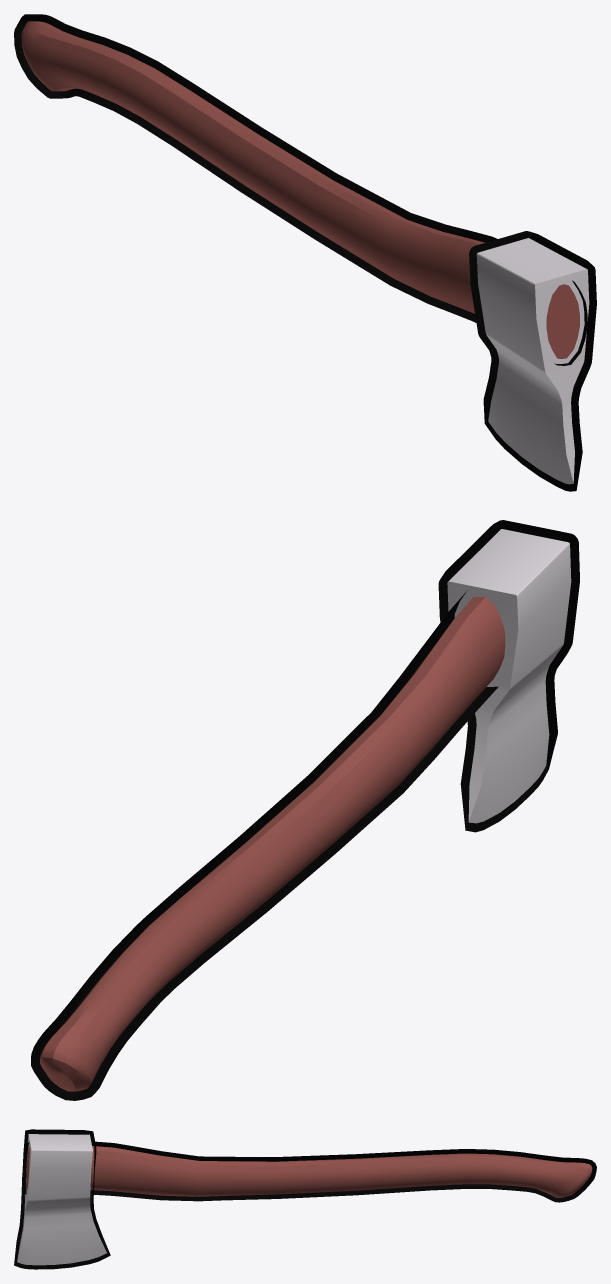
The model's file is Hacha.fbx.
3 views of the same model, one above another, from view 1: azimuth 30°, elevation 25°; view 2: azimuth 150°, elevation 25°; view 3: azimuth 270°, elevation 25° (orthographic). The views are drawn at different scales.
Parts seen in each view (by area): view 1: Metal; view 2: Metal; view 3: Metal.
Boxes of the visible parts, box(x1,y1,x2,y2) form: Metal: box(14, 14, 596, 491); Metal: box(31, 520, 579, 1100); Metal: box(14, 1129, 596, 1269).
Bounding box in the file's own units: 0.5407 × 0.9397 × 3.75.
